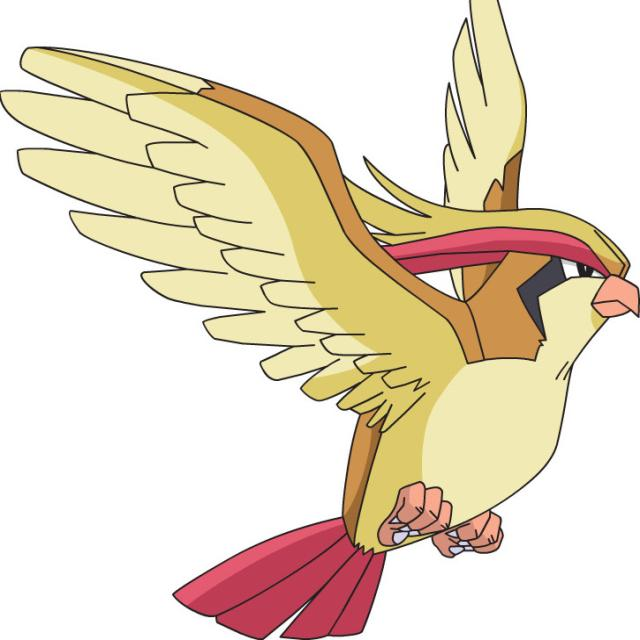Pidgeot: (170, 152, 640, 640)
